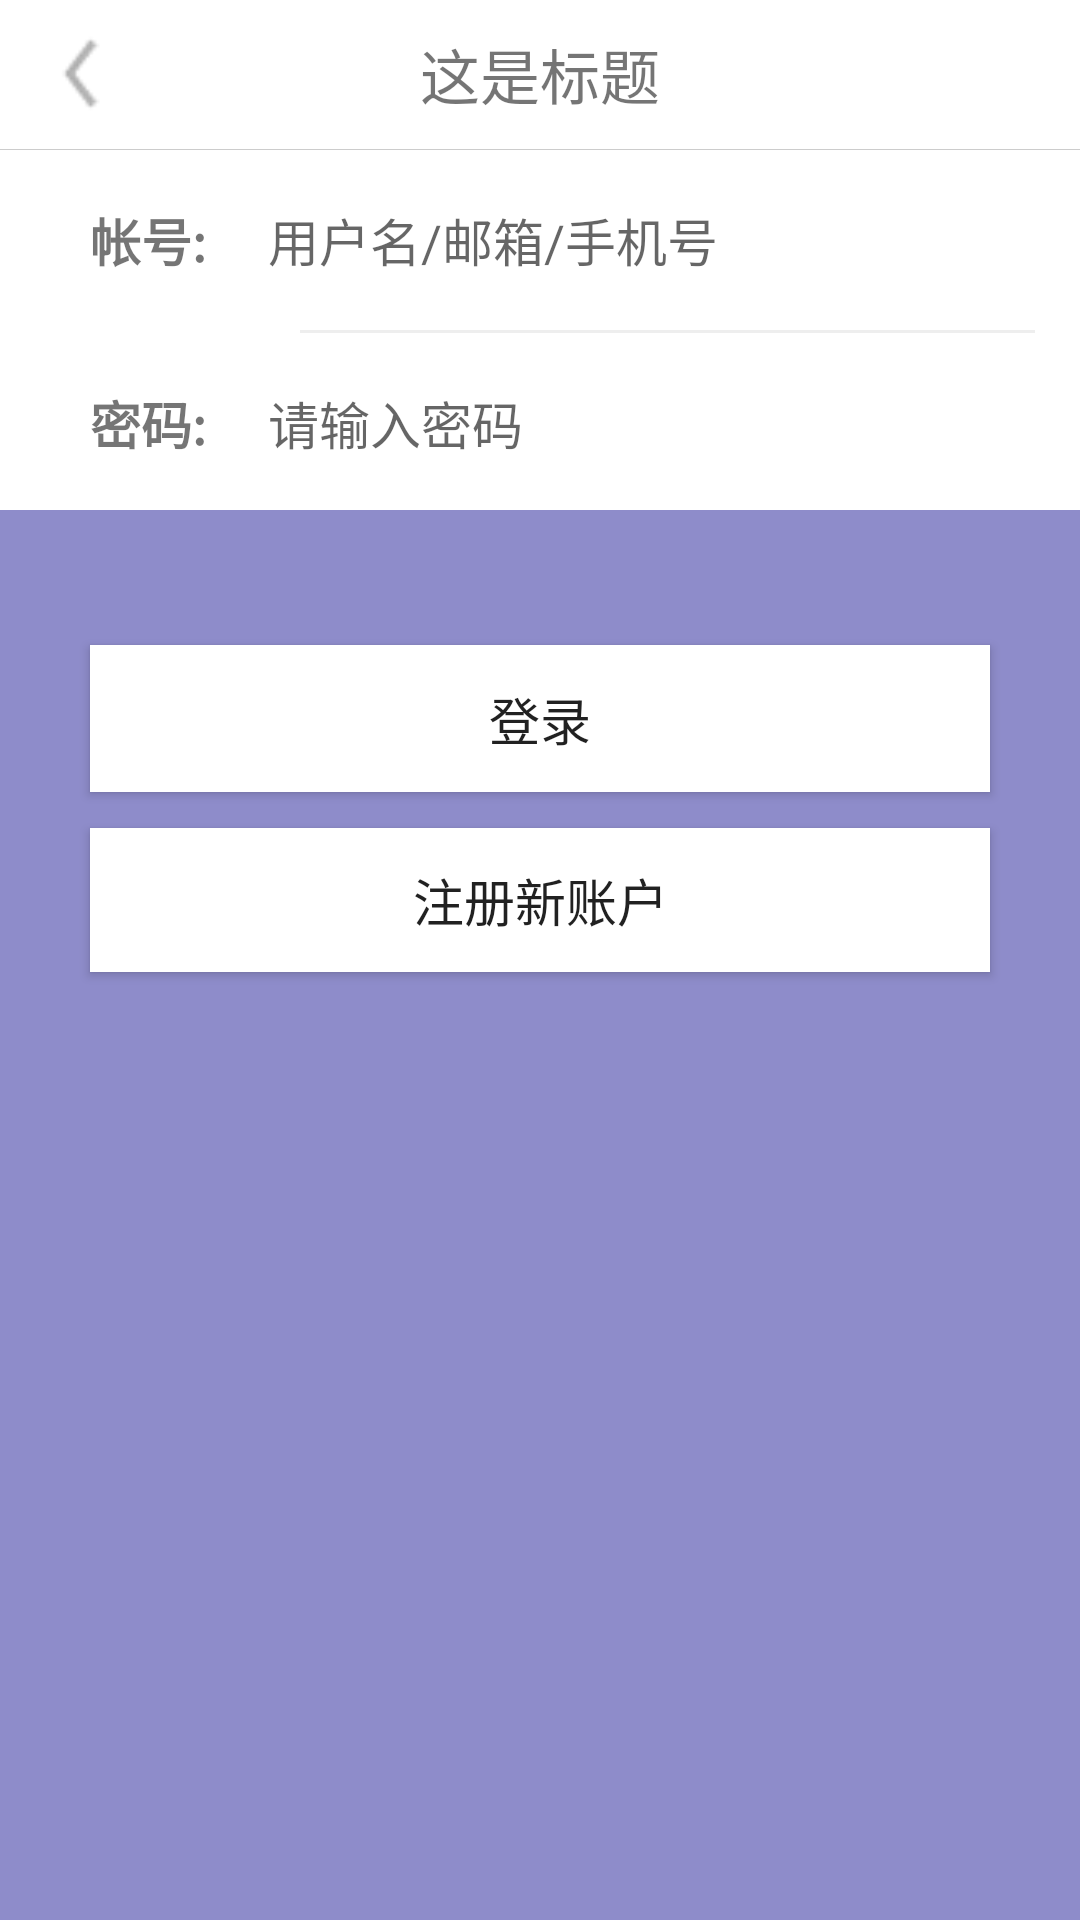

Named icons in this screenshot (1080px×1920px) and their bounding boxes, (x1, y1, x2, y2):
backbtn: (65, 40, 97, 107)
